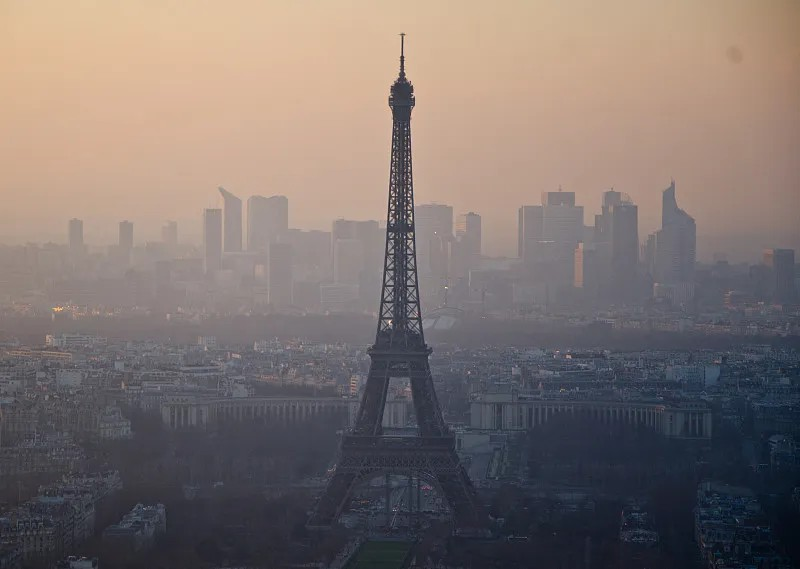Eiffel: (305, 33, 489, 537)
